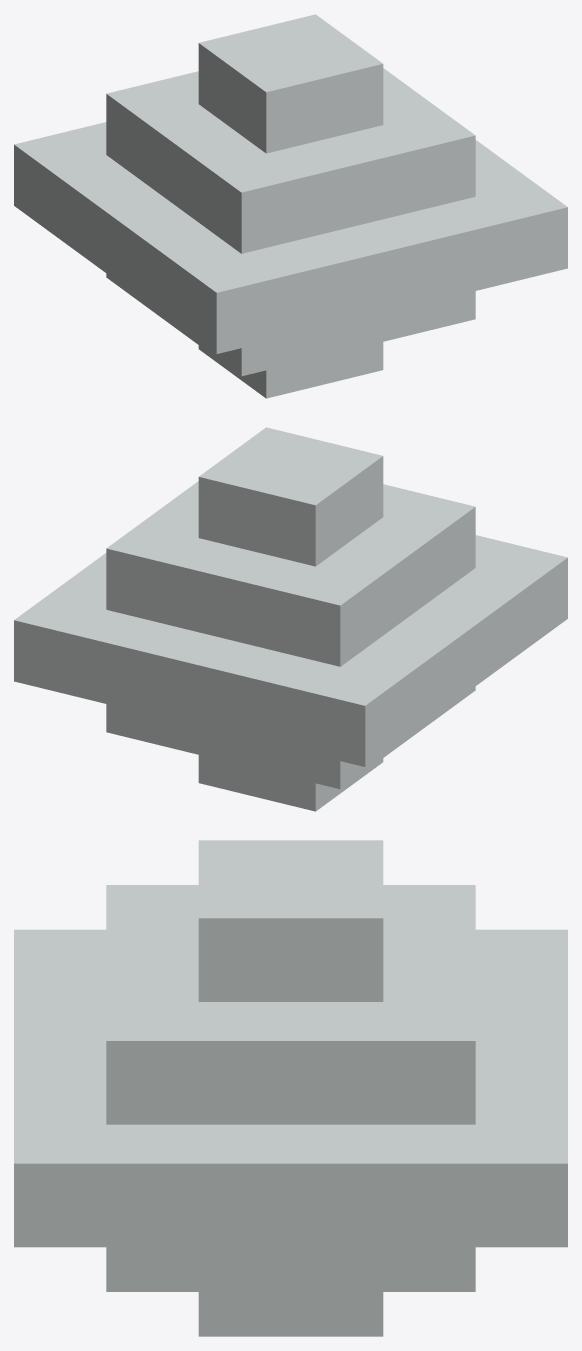
Rendered from white_smoke_003.obj.
The picture shows the model from 3 angles, top to bottom: view 1: azimuth 30°, elevation 25°; view 2: azimuth 150°, elevation 25°; view 3: azimuth 270°, elevation 25°; orthographic projection. The views are drawn at different scales.
Size of the model in its own units: 6 by 5 by 6.
Materials: 1 (1 with a texture image).
